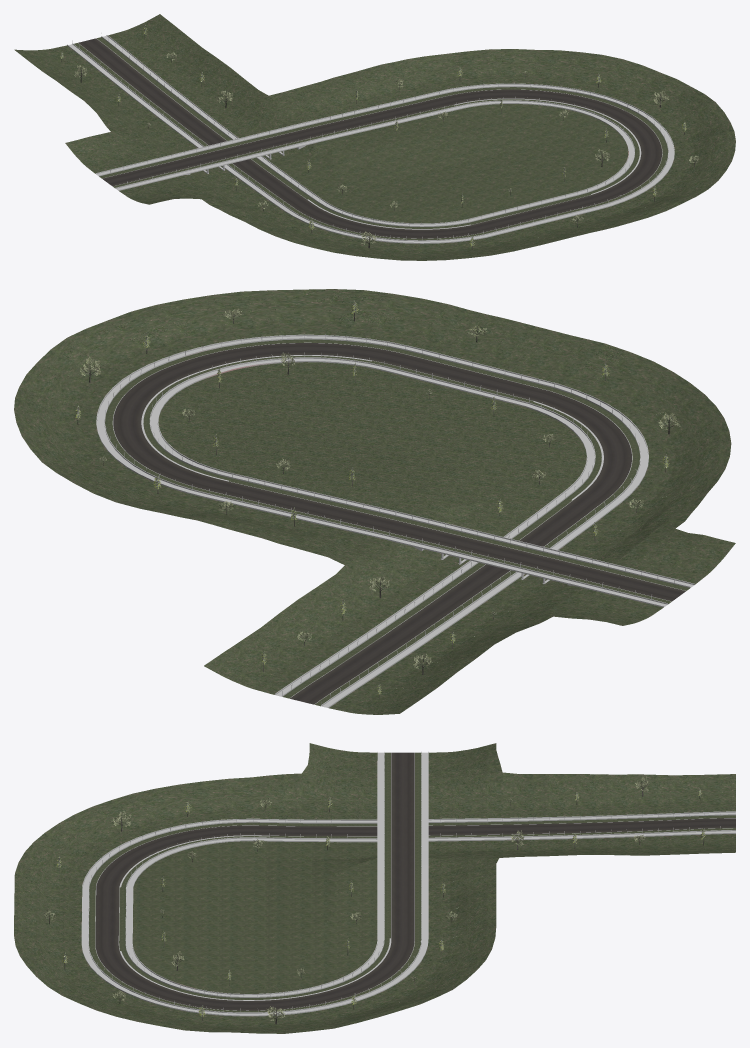
The picture shows the model from 3 angles, top to bottom: view 1: azimuth 30°, elevation 25°; view 2: azimuth 150°, elevation 25°; view 3: azimuth 270°, elevation 25°; orthographic projection. The views are drawn at different scales.
Visible parts, largest first — view 1: Grass, Road, Track, Trees; view 2: Grass, Road, Track, Trees; view 3: Grass, Road, Track, Trees.
Boxes of the visible parts, x1=… form: Grass: x1=14, y1=14, x2=735, y2=260; Road: x1=78, y1=38, x2=662, y2=238; Track: x1=67, y1=33, x2=674, y2=243; Trees: x1=60, y1=24, x2=698, y2=249; Grass: x1=14, y1=289, x2=735, y2=714; Road: x1=113, y1=343, x2=685, y2=704; Track: x1=96, y1=334, x2=694, y2=707; Trees: x1=75, y1=300, x2=680, y2=698; Grass: x1=14, y1=743, x2=735, y2=1033; Road: x1=95, y1=752, x2=735, y2=1010; Track: x1=81, y1=751, x2=735, y2=1016; Trees: x1=43, y1=776, x2=705, y2=1024.
Bounding box in the file's own units: 51083 × 2415 × 54220.
